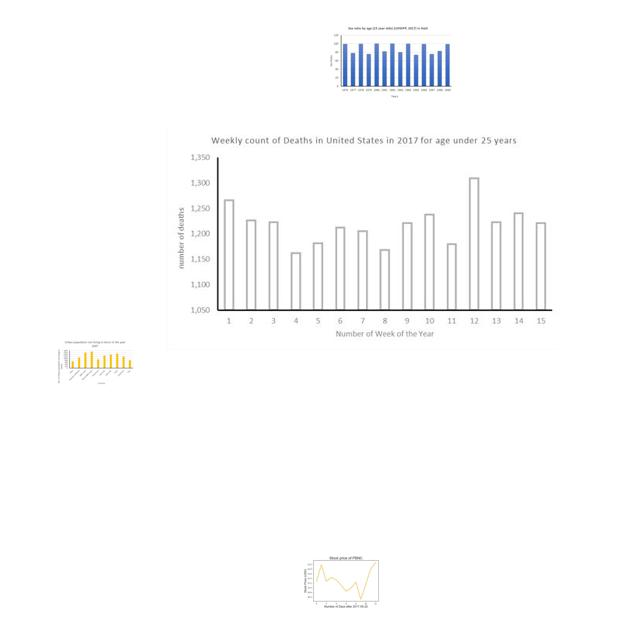Graph: (166, 129, 559, 350), (325, 24, 458, 102), (303, 549, 387, 612), (56, 340, 134, 385)
